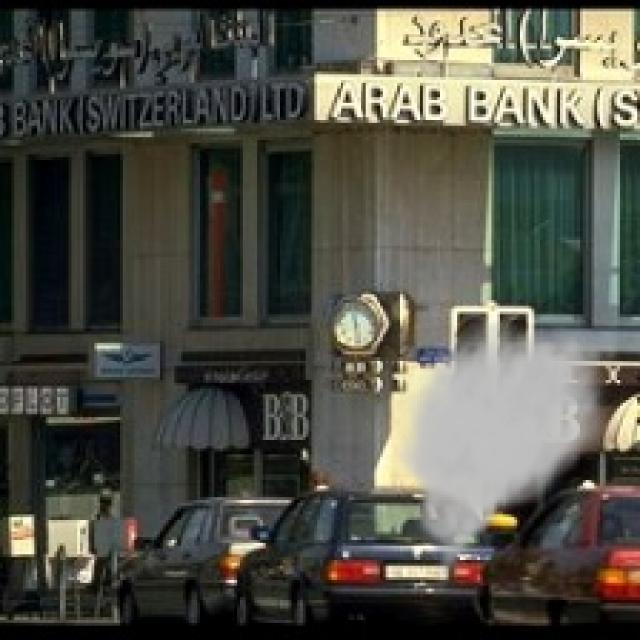smoke: (389, 314, 620, 597)
